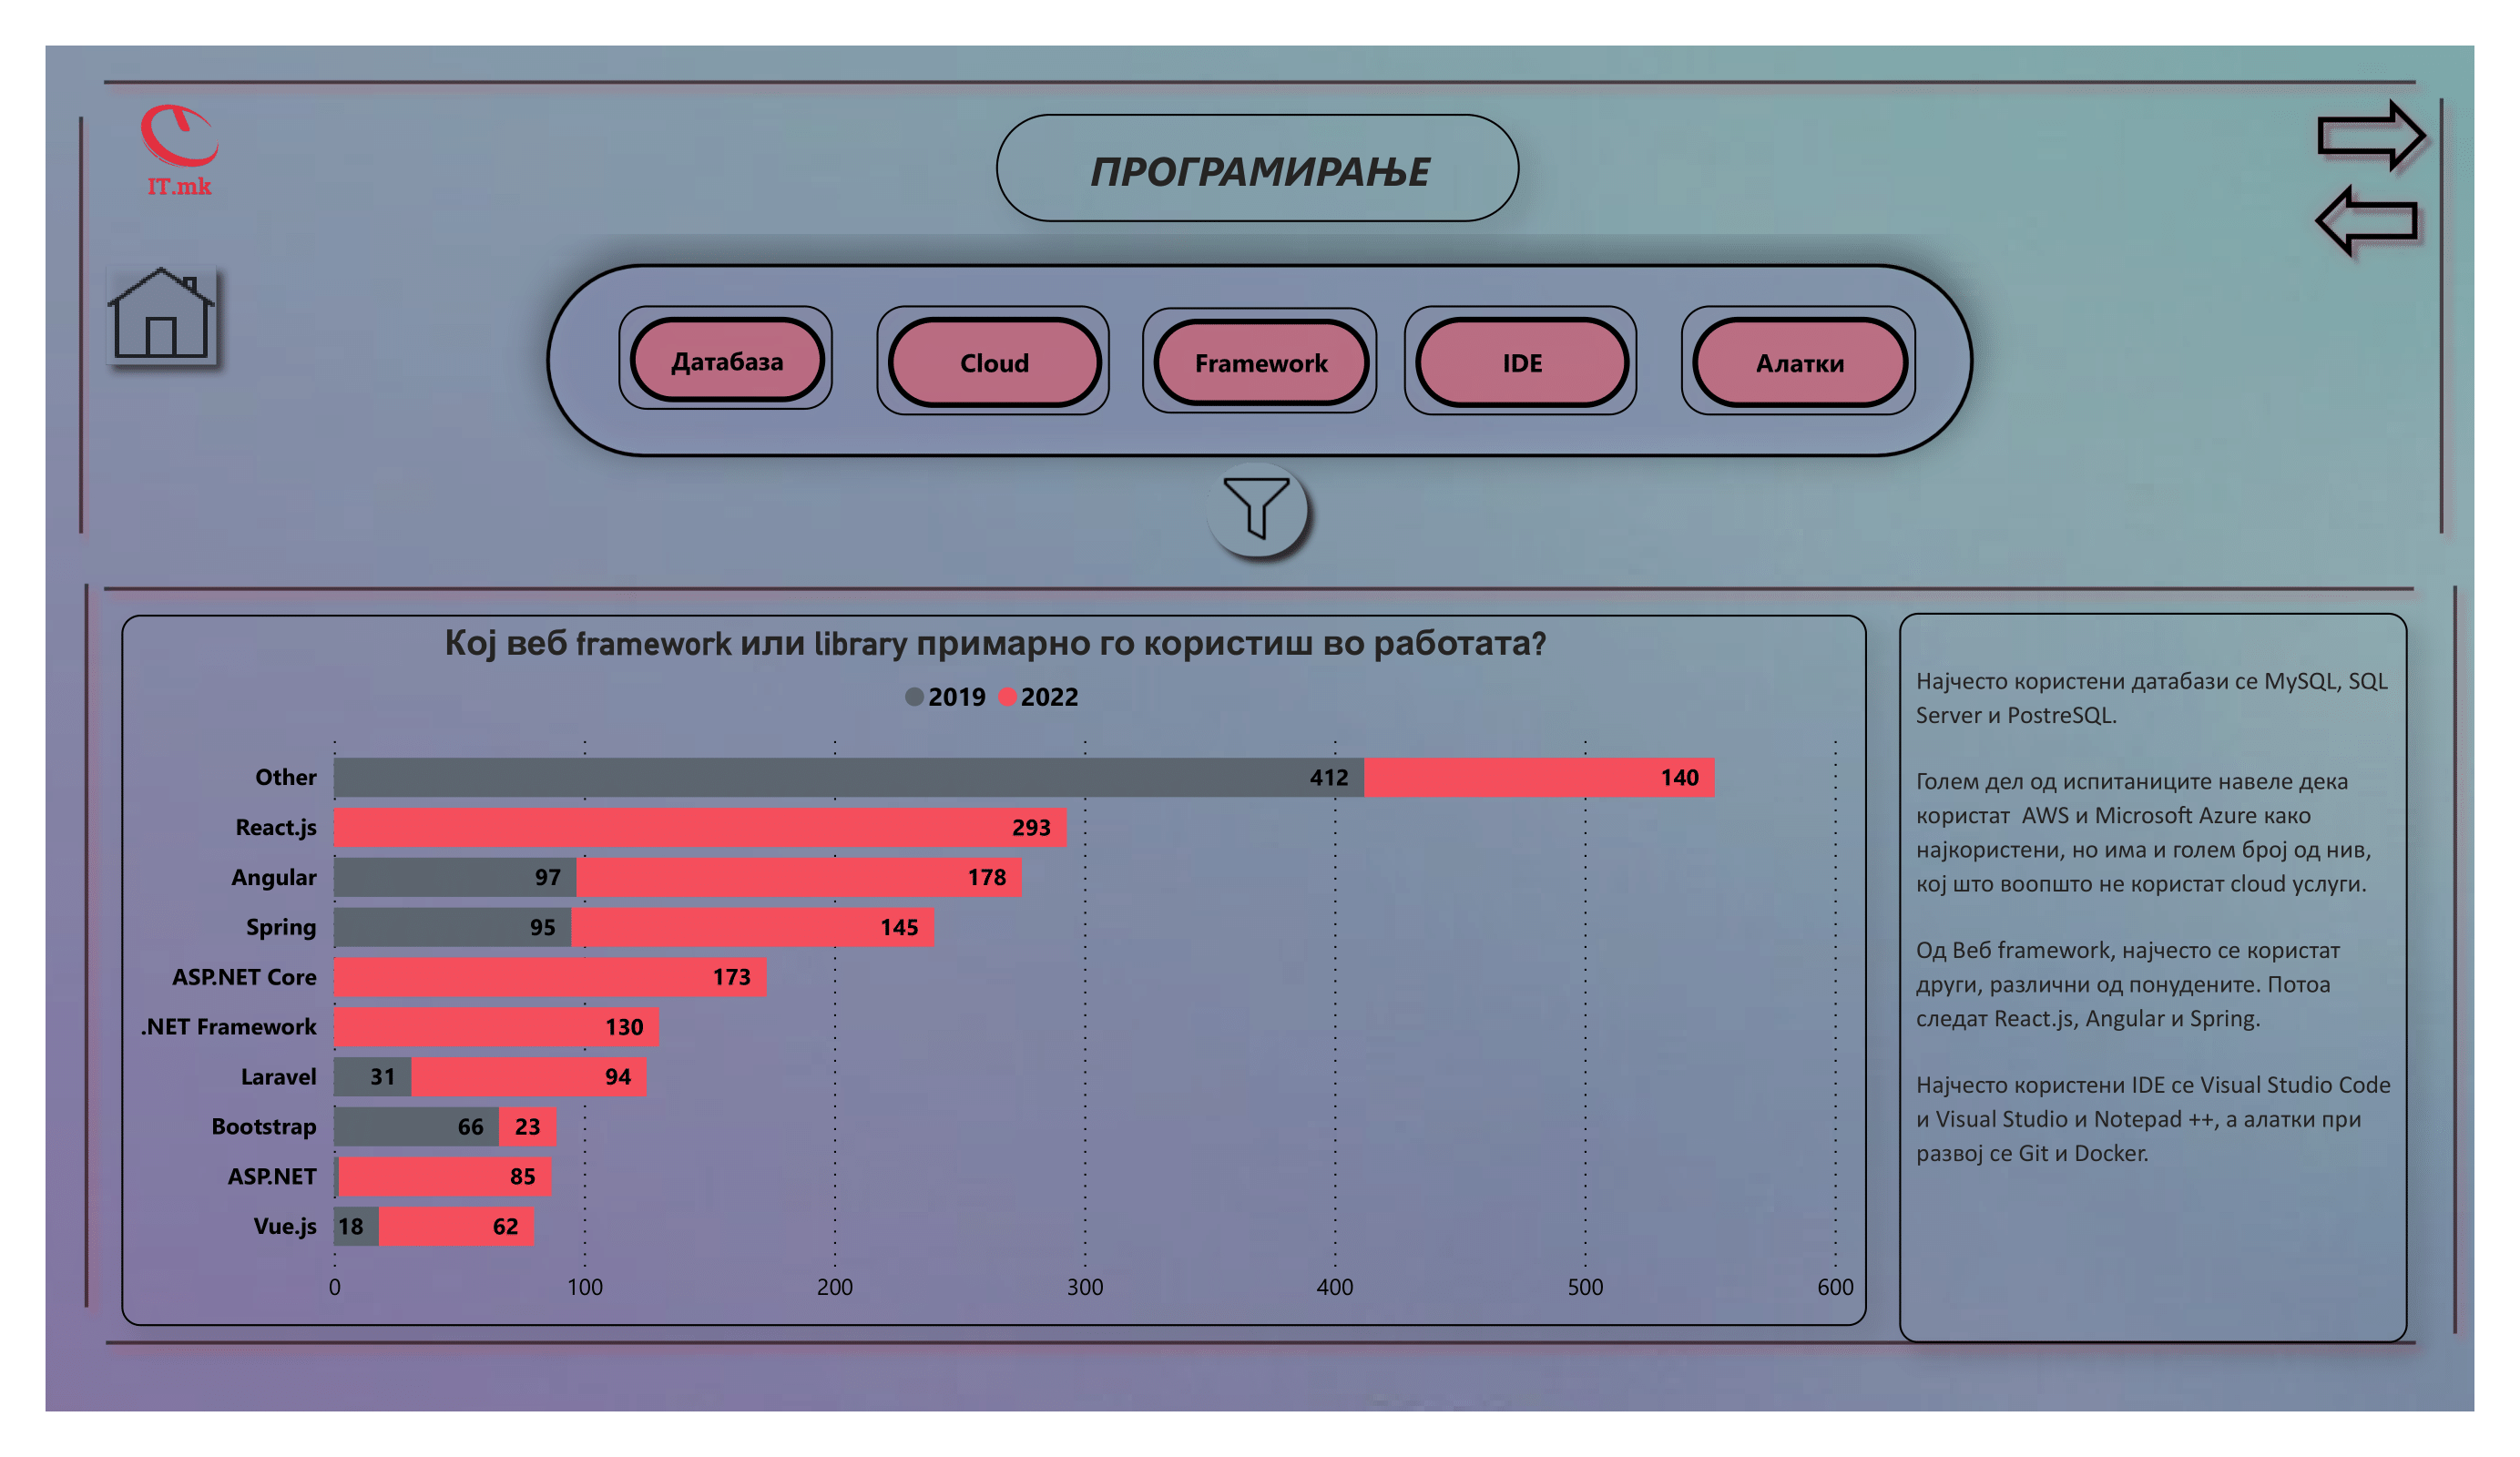

Layout of this report page (visuals, bound fields, positions):
{"tool":"powerbi","page":{"name":"Програмирање","canvas":[1280,720],"ordinal":4},"visuals":[{"type":"shape","box":[22.4,9.7,1235.3,19.5],"z":0},{"type":"shape","box":[22.1,275.1,1234.5,23.3],"z":1000},{"type":"shape","box":[1254.4,18.7,16.3,247.1],"z":2000},{"type":"shape","box":[10.5,29.1,12.8,236.6],"z":3000},{"type":"shape","box":[12.8,275.1,17.5,398.7],"z":4000},{"type":"shape","box":[22.5,673.9,1235.2,20.2],"z":5000},{"type":"shape","box":[1261.3,276.3,17.5,411.5],"z":6000},{"type":"textbox","box":[976.8,299.1,268.1,385.3],"z":7000},{"type":"actionButton","box":[1190.2,19.8,72.3,54.8],"z":8000},{"type":"actionButton","box":[22.8,106.8,75.7,70.5],"z":9000},{"type":"shape","box":[238.5,90,802.1,151.9],"z":10000},{"type":"textbox","box":[500.6,36,276.8,57.4],"z":11000},{"type":"image","box":[23.1,19.2,95.2,71.2],"z":12000},{"type":"actionButton","box":[1187.9,65.3,69.9,54.8],"z":13000},{"type":"actionButton","box":[861.8,137.2,123.8,57.4],"z":14000},{"type":"actionButton","box":[715.5,137.2,123.8,57.4],"z":15000},{"type":"actionButton","box":[578.2,138.4,123.8,55.1],"z":16000},{"type":"actionButton","box":[437.6,137.2,123.8,57.4],"z":17000},{"type":"actionButton","box":[301.5,137.2,113.6,55.1],"z":18000},{"type":"actionButton","box":[604.1,211.5,68.6,65.2],"z":19000},{"type":"barChart","title":"Кој веб framework или library примарно го користиш во работата?","fields":{"Category":["Mapiranje 2019-2022.Q6 Кој веб framework или library примарно го користиш во работата?  (groups)"],"Series":["Date.Year"],"Y":["CountNonNull(Mapiranje 2019-2022.Index)"]},"box":[40,300,920,375],"z":22000}]}

Visuals, with their boxes on the page's 1280x720 design canvas (x1, y1, x2, y2). These are canvas units, not pixel positions in the 2520x1457 screenshot, which may show the page scaled, cropped or inside an application window:
shape: x1=22 y1=10 x2=1258 y2=29
shape: x1=22 y1=275 x2=1257 y2=298
shape: x1=1254 y1=19 x2=1271 y2=266
shape: x1=10 y1=29 x2=23 y2=266
shape: x1=13 y1=275 x2=30 y2=674
shape: x1=22 y1=674 x2=1258 y2=694
shape: x1=1261 y1=276 x2=1279 y2=688
textbox: x1=977 y1=299 x2=1245 y2=684
actionButton: x1=1190 y1=20 x2=1262 y2=75
actionButton: x1=23 y1=107 x2=98 y2=177
shape: x1=238 y1=90 x2=1041 y2=242
textbox: x1=501 y1=36 x2=777 y2=93
image: x1=23 y1=19 x2=118 y2=90
actionButton: x1=1188 y1=65 x2=1258 y2=120
actionButton: x1=862 y1=137 x2=986 y2=195
actionButton: x1=716 y1=137 x2=839 y2=195
actionButton: x1=578 y1=138 x2=702 y2=194
actionButton: x1=438 y1=137 x2=561 y2=195
actionButton: x1=302 y1=137 x2=415 y2=192
actionButton: x1=604 y1=212 x2=673 y2=277
"Кој веб framework или library примарно го користиш во работата?" barChart: x1=40 y1=300 x2=960 y2=675
